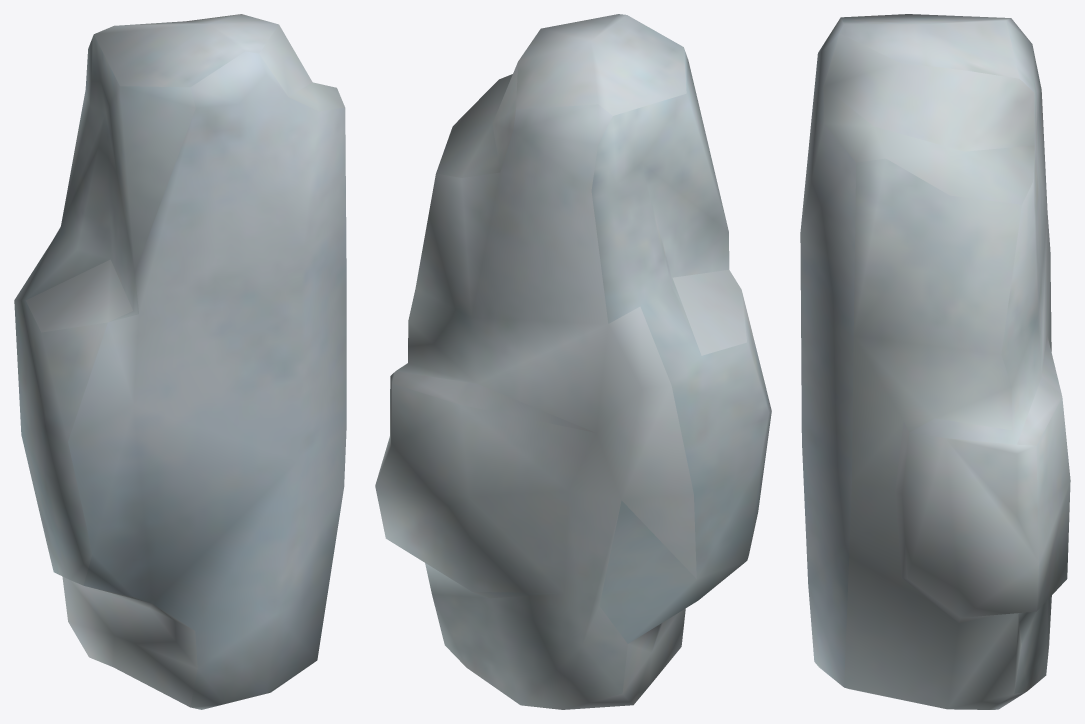
Rendered from P_RockSpire_Rock17.obj.
3 renders of one model, left to right at view 1: azimuth 30°, elevation 25°; view 2: azimuth 150°, elevation 25°; view 3: azimuth 270°, elevation 25°, orthographic. The views are drawn at different scales.
Size of the model in its own units: 9.1 by 16.87 by 6.31.
